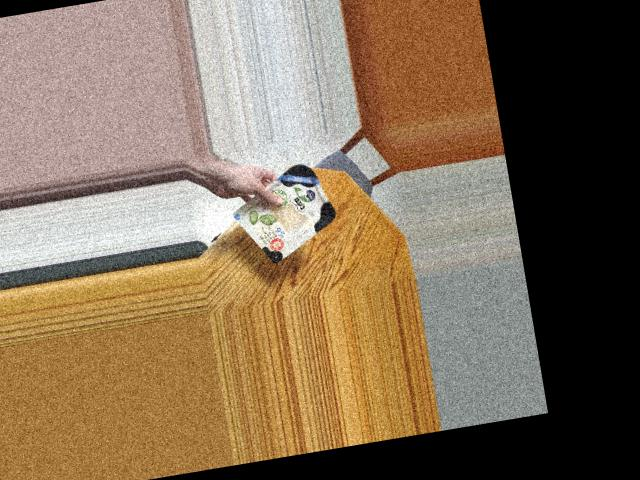cheese: (238, 161, 339, 261)
